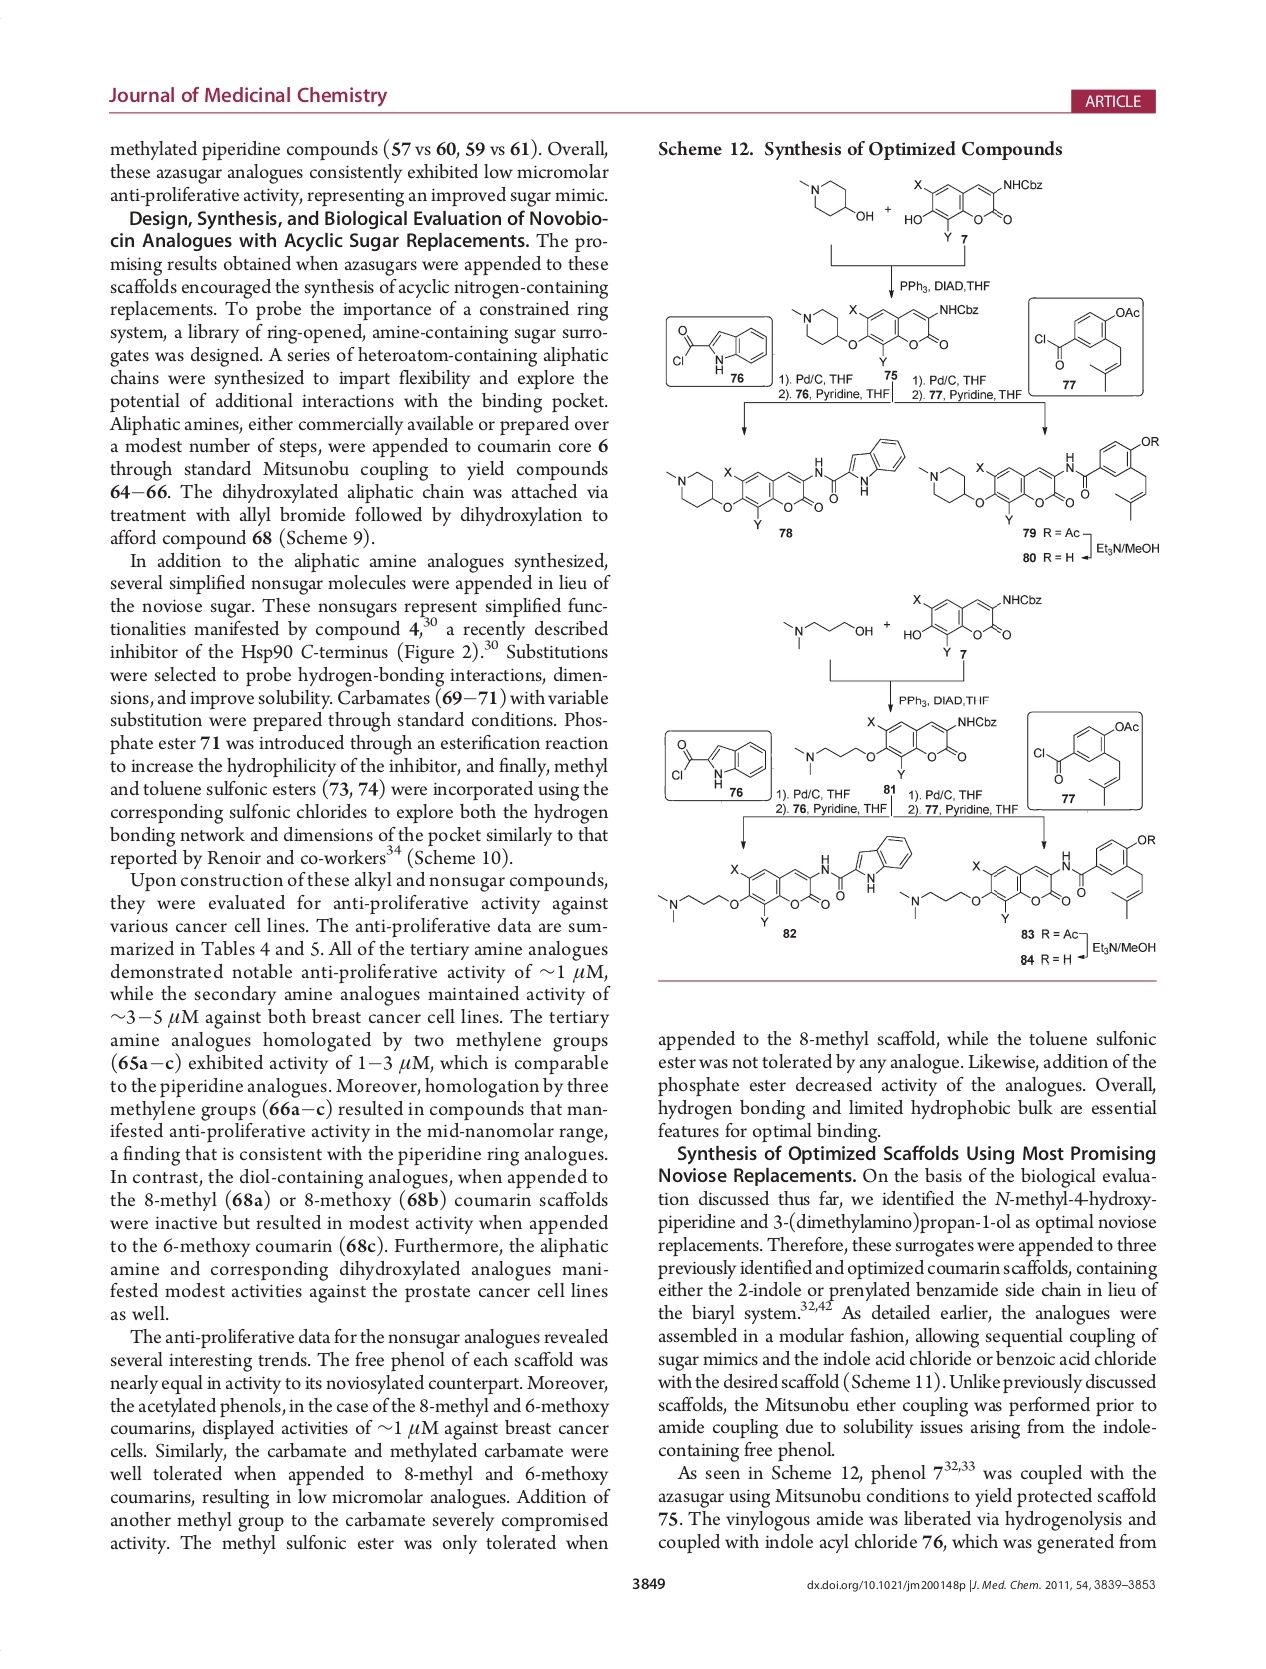exist_molecular: (653, 831, 914, 928), (898, 833, 1160, 926), (914, 434, 1164, 527), (664, 438, 906, 531), (793, 711, 997, 781), (789, 297, 979, 366), (903, 164, 1045, 245), (898, 584, 1045, 660), (1031, 305, 1140, 392), (1032, 718, 1138, 805), (666, 322, 769, 376), (666, 738, 767, 791), (773, 606, 875, 652), (793, 172, 875, 227)
